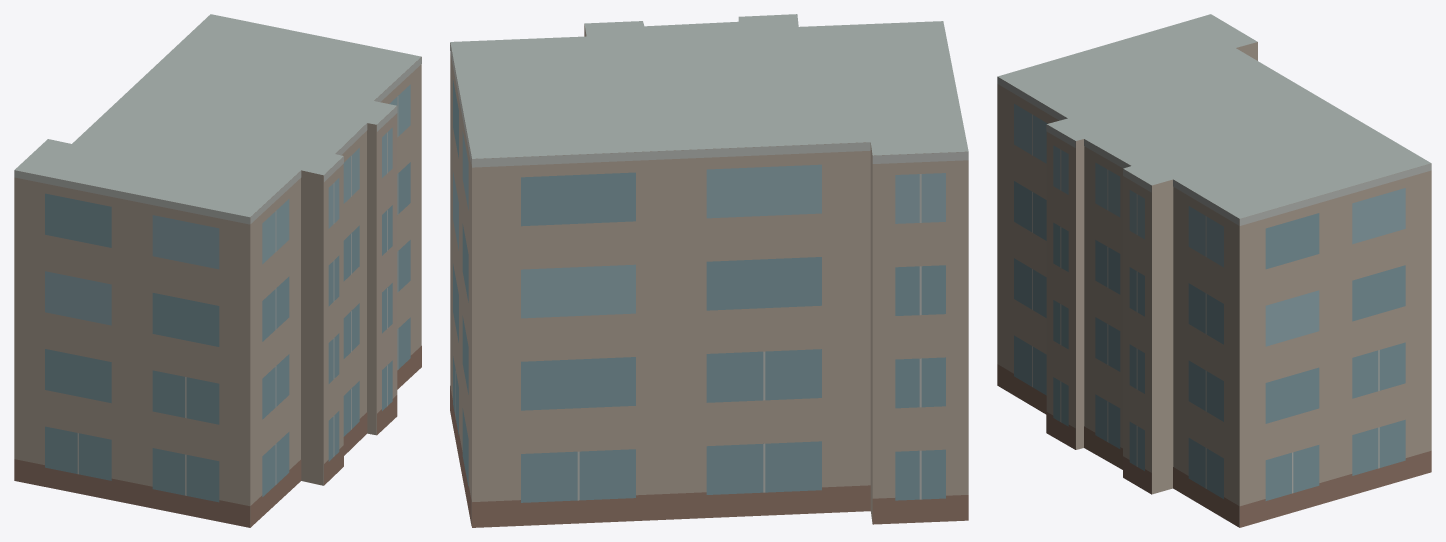
The model's file is survey-upis-32964381.glb.
3 renders of one model, left to right at view 1: azimuth 30°, elevation 25°; view 2: azimuth 150°, elevation 25°; view 3: azimuth 270°, elevation 25°, orthographic. The views are drawn at different scales.
Parts seen in each view (by area): view 1: survey-upis-32964381.tmp; view 2: survey-upis-32964381.tmp; view 3: survey-upis-32964381.tmp.
Part boxes in pixels (x1,y1,x2,y2): survey-upis-32964381.tmp: [14, 14, 421, 527]; survey-upis-32964381.tmp: [450, 14, 968, 527]; survey-upis-32964381.tmp: [997, 14, 1431, 527].
Bounding box in the file's own units: 14.8 × 10.4 × 13.25.
